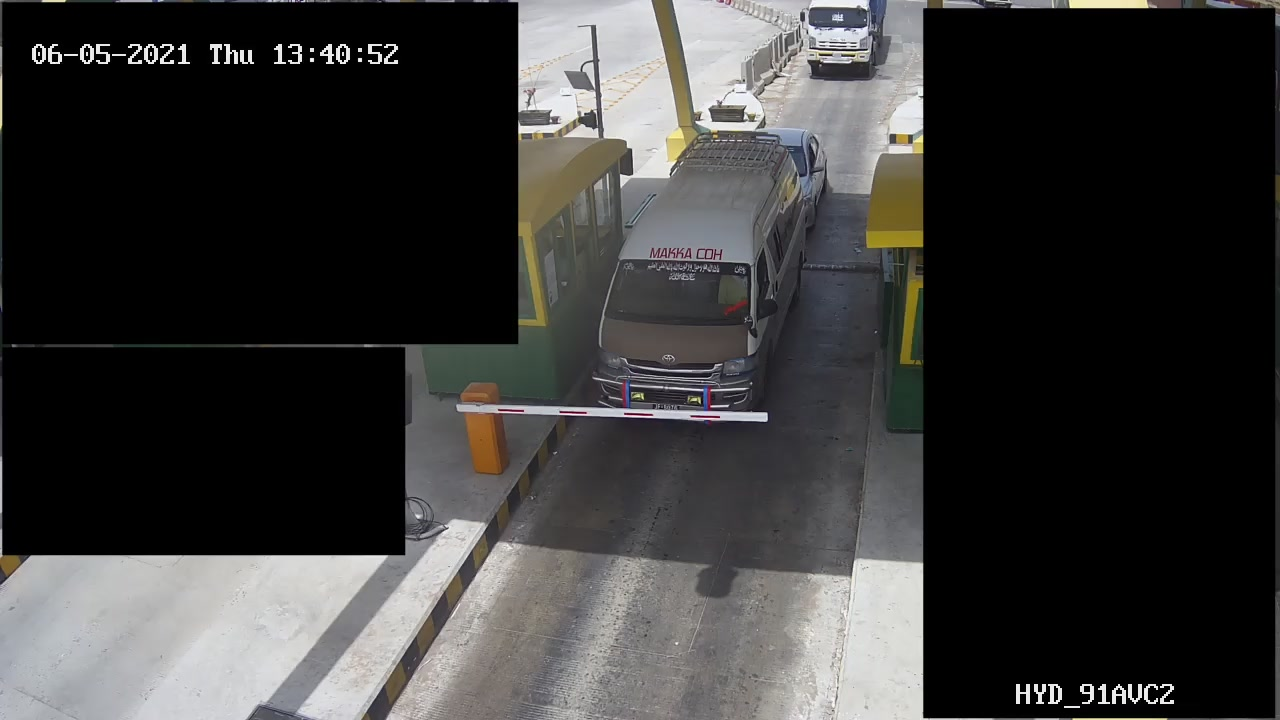F2: (593, 133, 801, 419)
